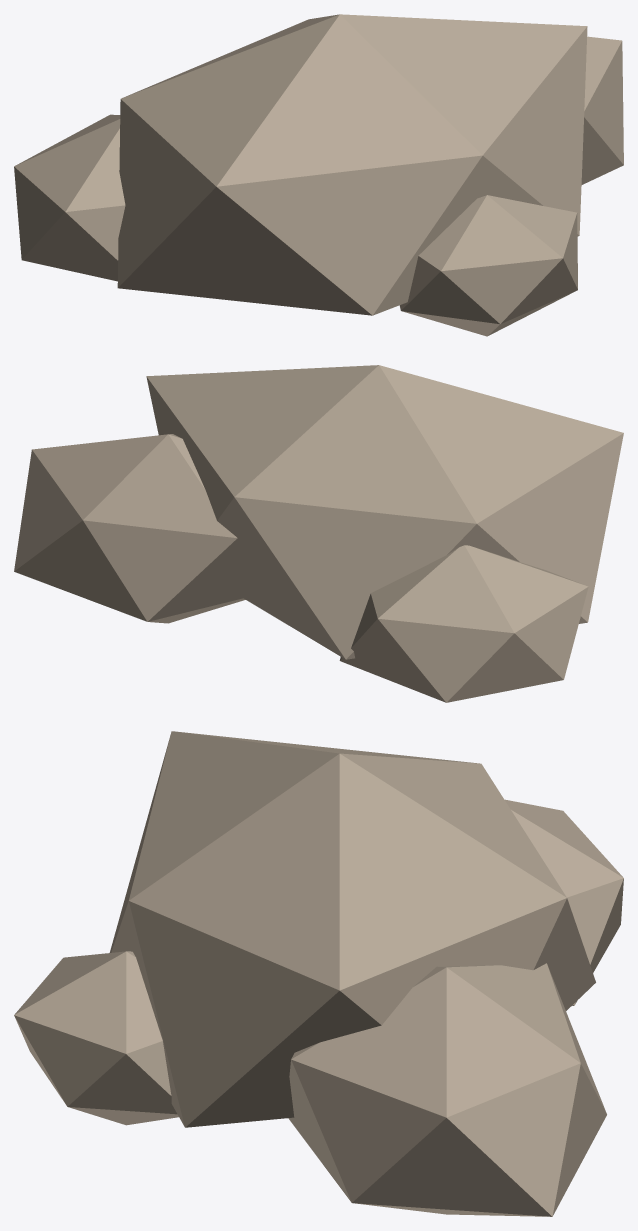
File: Prop_Rocks.fbx
3 views of the same model, one above another, from view 1: azimuth 30°, elevation 25°; view 2: azimuth 150°, elevation 25°; view 3: azimuth 270°, elevation 25° (orthographic). The views are drawn at different scales.
Visible parts, largest first — view 1: Body.010; view 2: Body.010; view 3: Body.010.
Boxes of the visible parts, bbox=[...] form: Body.010: bbox=[14, 14, 623, 336]; Body.010: bbox=[14, 365, 623, 702]; Body.010: bbox=[14, 731, 623, 1216].
Bounding box in the file's own units: 3.87 × 1.84 × 2.86.
